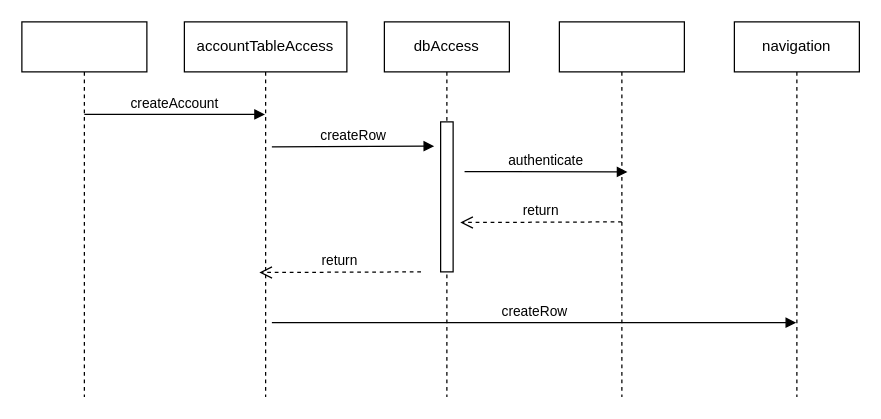
Image size: 881x419. Some labels were removed from this diagram. The shapes that lost their labels are listed below. From the top down, each one's box as (x1, y1, x2, y2) in pixels, then its label:
(21, 21, 147, 397): UI
(558, 21, 684, 397): authentication
